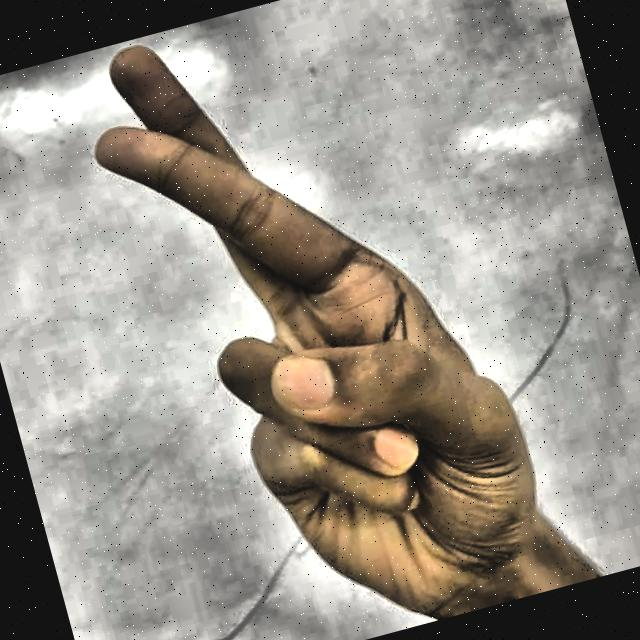Ra: (15, 0, 592, 640)
